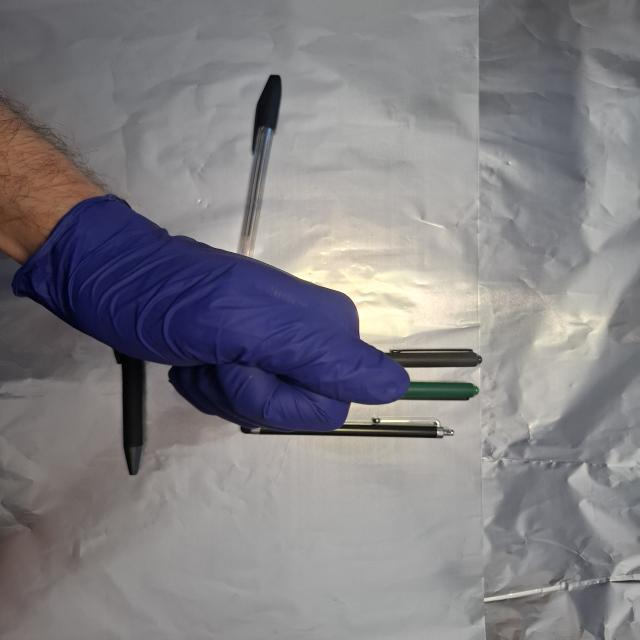glove_on: (21, 194, 414, 434)
